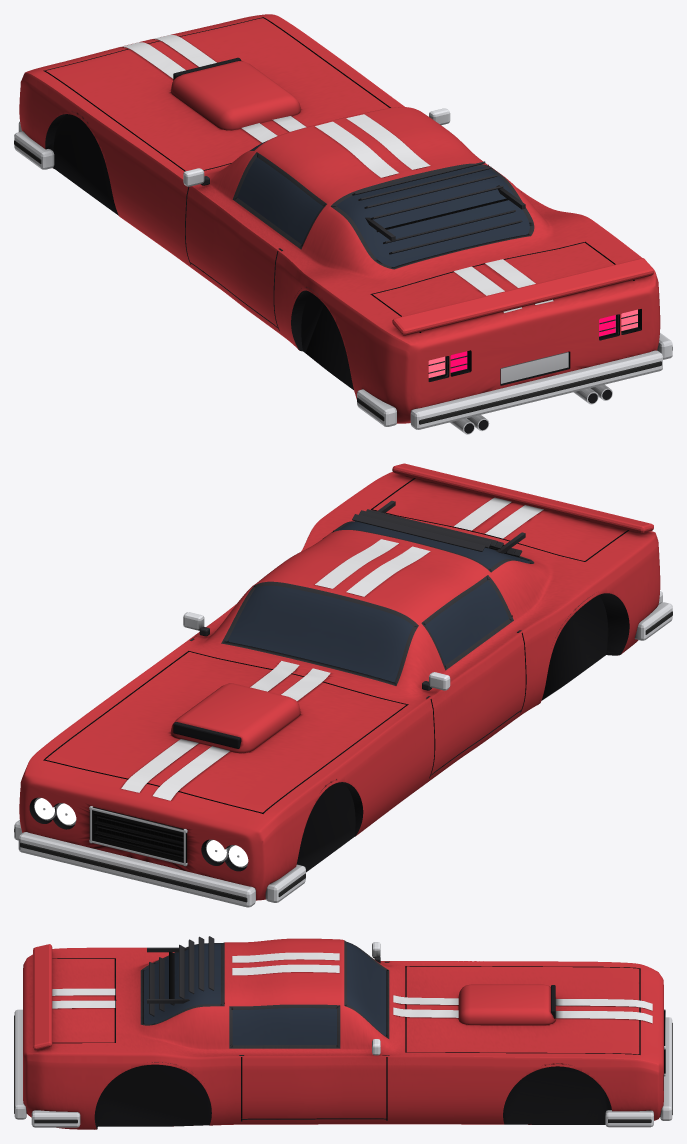
The model's file is muscle.glb.
The picture shows the model from 3 angles, top to bottom: view 1: azimuth 30°, elevation 25°; view 2: azimuth 150°, elevation 25°; view 3: azimuth 270°, elevation 25°; orthographic projection. The views are drawn at different scales.
Visible parts, largest first — view 1: body, glass_panes, part.028, part.080, part.036, stripe.002, part.037, stripe.003, stripe, part.058, stripe.001, part.032 (+3 smaller); view 2: body, glass_panes, part.028, part.030, part.080, stripe, stripe.001, part.031, stripe.002, stripe.003, part.071, object 6 (+7 smaller); view 3: body, glass_panes, part.028, part.080, stripe.001, stripe, part.036, part.030, stripe.003, stripe.002, part.034, part.040 (+6 smaller).
Boxes of the visible parts, bbox=[...] form: body: bbox=[19, 14, 660, 423]; glass_panes: bbox=[237, 140, 529, 267]; part.028: bbox=[171, 61, 300, 130]; part.080: bbox=[392, 258, 653, 335]; part.036: bbox=[410, 350, 662, 429]; stripe.002: bbox=[315, 121, 398, 177]; part.037: bbox=[419, 361, 661, 424]; stripe.003: bbox=[346, 114, 430, 169]; stripe: bbox=[121, 42, 277, 142]; part.058: bbox=[500, 352, 568, 383]; stripe.001: bbox=[153, 35, 306, 131]; part.032: bbox=[14, 131, 54, 169]; body: bbox=[19, 472, 660, 900]; glass_panes: bbox=[227, 521, 529, 682]; part.028: bbox=[171, 683, 300, 753]; part.030: bbox=[18, 832, 255, 907]; part.080: bbox=[392, 463, 653, 533]; stripe: bbox=[153, 668, 330, 800]; stripe.001: bbox=[121, 661, 299, 792]; part.031: bbox=[20, 842, 247, 902]; stripe.002: bbox=[346, 546, 430, 596]; stripe.003: bbox=[315, 539, 398, 588]; part.071: bbox=[352, 514, 485, 551]; object 6: bbox=[97, 816, 183, 857]; body: bbox=[23, 938, 663, 1129]; glass_panes: bbox=[144, 942, 386, 1045]; part.028: bbox=[458, 984, 555, 1025]; part.080: bbox=[33, 944, 52, 1050]; stripe.001: bbox=[393, 1007, 652, 1023]; stripe: bbox=[393, 995, 652, 1010]; part.036: bbox=[14, 1009, 26, 1119]; part.030: bbox=[660, 1017, 672, 1120]; stripe.003: bbox=[232, 964, 339, 975]; stripe.002: bbox=[232, 952, 339, 962]; part.034: bbox=[605, 1110, 653, 1127]; part.040: bbox=[31, 1110, 80, 1127].
Bounding box in the file's own units: 2.23 × 1.13 × 5.42.
